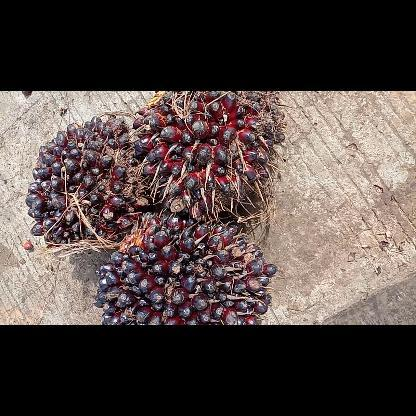TBS mentah: (127, 90, 289, 224), (90, 210, 278, 324), (22, 112, 150, 252)
